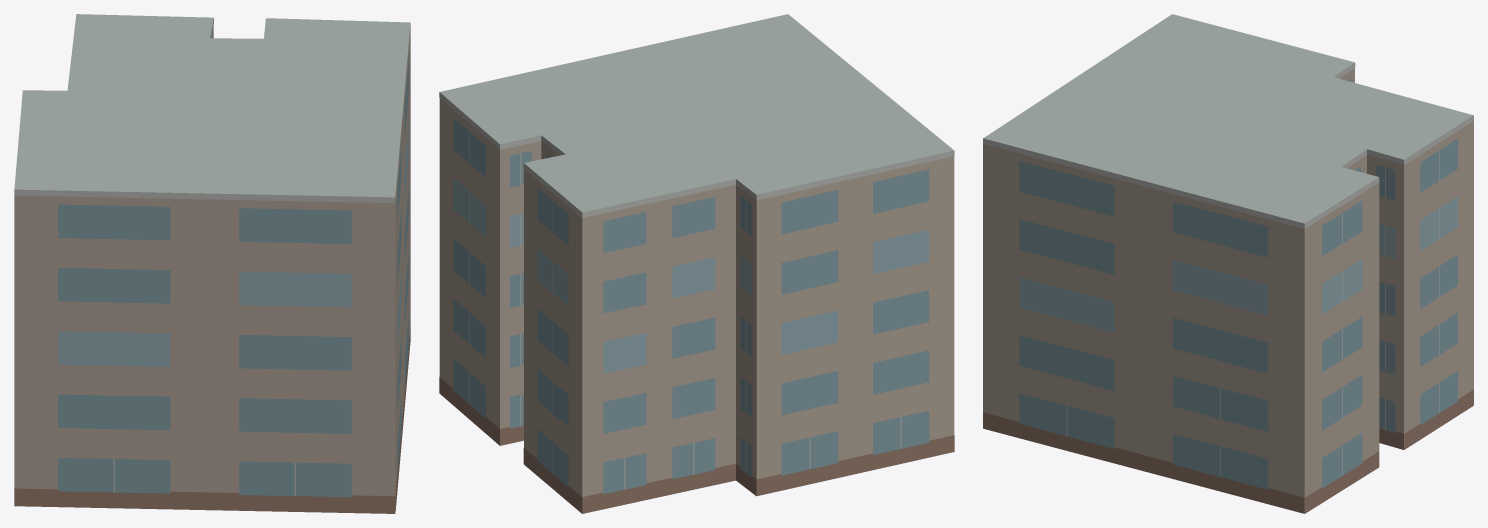
Rendered from survey-upis-32679111.glb.
3 views of the same model, side by side, from view 1: azimuth 30°, elevation 25°; view 2: azimuth 150°, elevation 25°; view 3: azimuth 270°, elevation 25° (orthographic). The views are drawn at different scales.
Visible parts, largest first — view 1: survey-upis-32679111.tmp; view 2: survey-upis-32679111.tmp; view 3: survey-upis-32679111.tmp.
Boxes of the visible parts, box(x1,y1,x2,y2) form: survey-upis-32679111.tmp: box(14, 14, 410, 513); survey-upis-32679111.tmp: box(439, 14, 954, 513); survey-upis-32679111.tmp: box(983, 14, 1473, 513).
Size of the model in its own units: 20.3 by 13.1 by 20.08.
